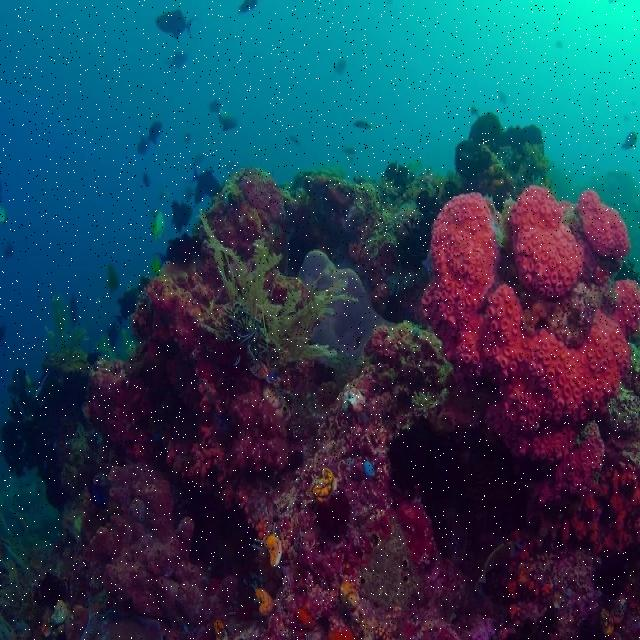aquatic plants: (202, 215, 359, 372)
reefs: (423, 186, 639, 499)
sea-floor: (11, 113, 639, 639)
